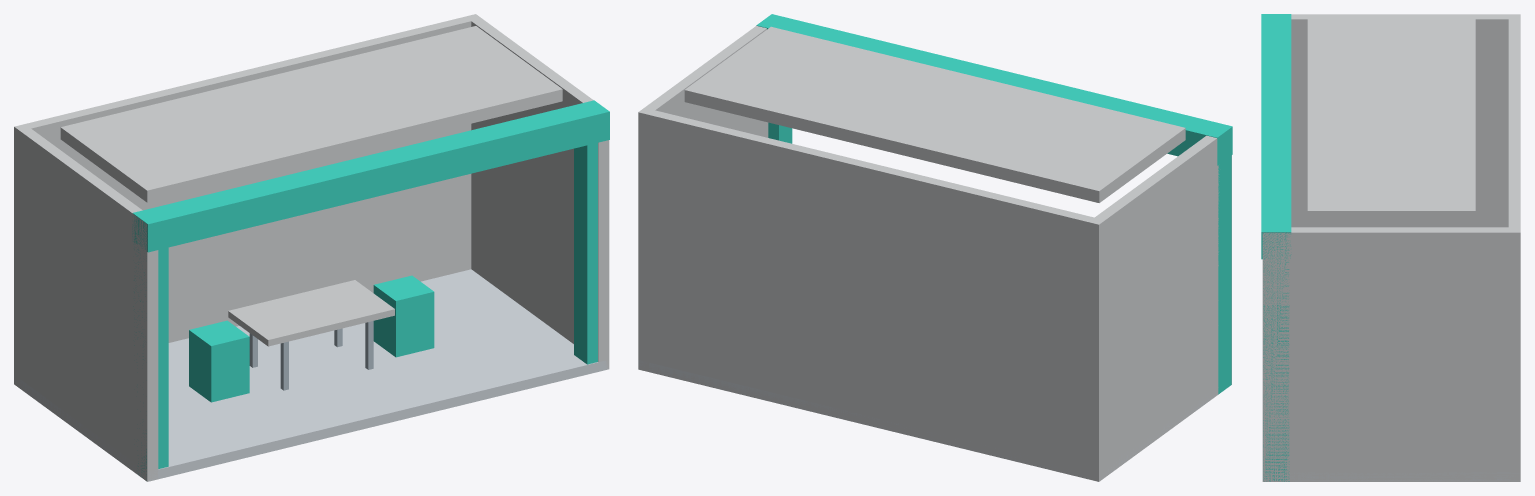
3 views of the same model, side by side, from view 1: azimuth 30°, elevation 25°; view 2: azimuth 150°, elevation 25°; view 3: azimuth 270°, elevation 25° (orthographic). The views are drawn at different scales.
Parts seen in each view (by area): view 1: Exhibition Booth Concept; view 2: Exhibition Booth Concept; view 3: Exhibition Booth Concept.
Part boxes in pixels (<box>): Exhibition Booth Concept: <box>14,14,609,481</box>; Exhibition Booth Concept: <box>638,14,1232,481</box>; Exhibition Booth Concept: <box>1261,14,1520,481</box>.
Size of the model in its own units: 6 by 3.34 by 3.01.
